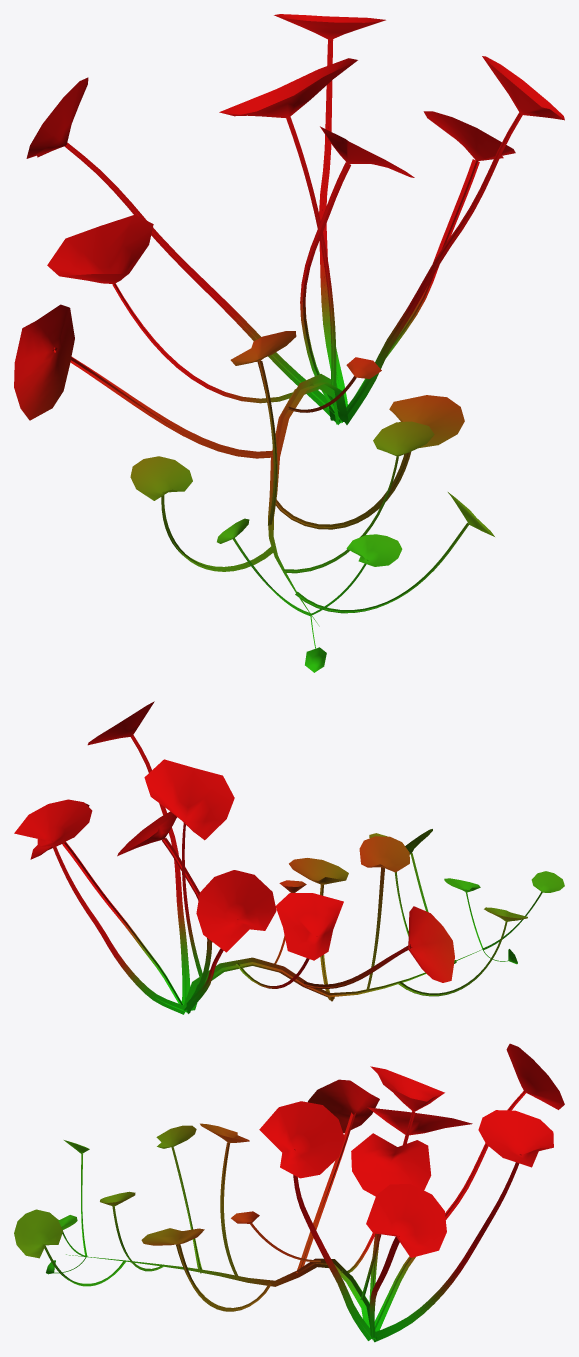
File: Var4_LOD0.fbx
The picture shows the model from 3 angles, top to bottom: view 1: azimuth 30°, elevation 25°; view 2: azimuth 150°, elevation 25°; view 3: azimuth 270°, elevation 25°; orthographic projection. The views are drawn at different scales.
Visible parts, largest first — view 1: _6a65_Var4_LOD0; view 2: _6a65_Var4_LOD0; view 3: _6a65_Var4_LOD0.
Part boxes in pixels (left/top/right/bottom): _6a65_Var4_LOD0: left=14, top=14, right=564, bottom=672; _6a65_Var4_LOD0: left=14, top=701, right=564, bottom=1014; _6a65_Var4_LOD0: left=14, top=1043, right=564, bottom=1342.
Bounding box in the file's own units: 28 × 20.26 × 33.78.
